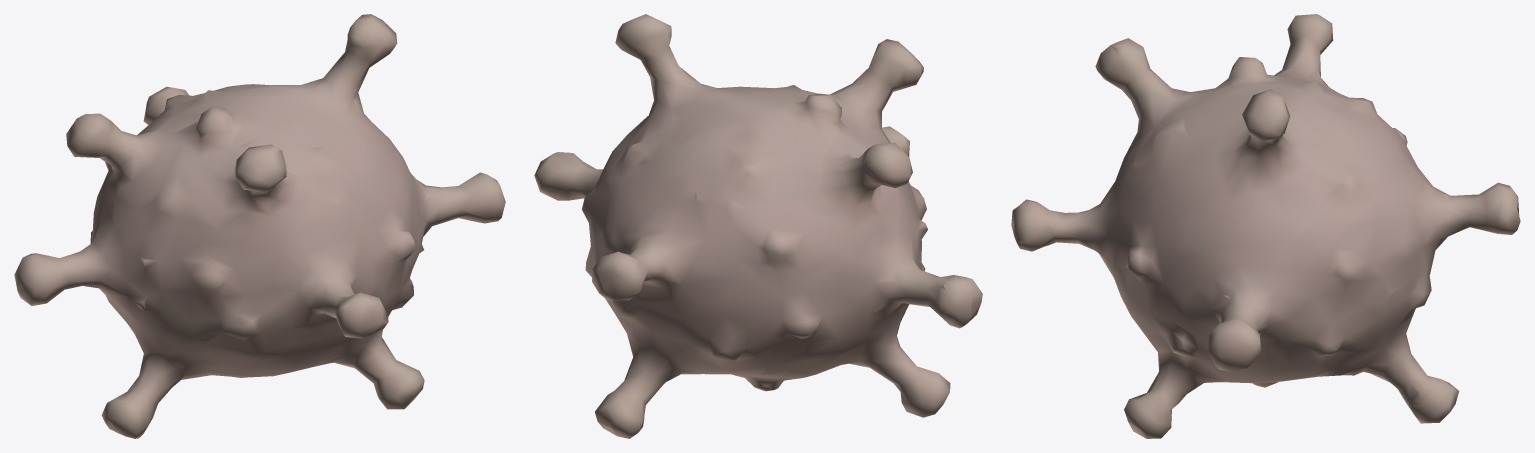
Rendered from pdc.glb.
The picture shows the model from 3 angles, left to right: view 1: azimuth 30°, elevation 25°; view 2: azimuth 150°, elevation 25°; view 3: azimuth 270°, elevation 25°; orthographic projection. The views are drawn at different scales.
Parts seen in each view (by area): view 1: pdc; view 2: pdc; view 3: pdc.
Part boxes in pixels (bbox=[...]): pdc: bbox=[14, 14, 505, 438]; pdc: bbox=[534, 14, 982, 438]; pdc: bbox=[1011, 14, 1520, 438].
Size of the model in its own units: 2.97 by 2.15 by 2.77.
Materials: 1 (1 with a texture image).
